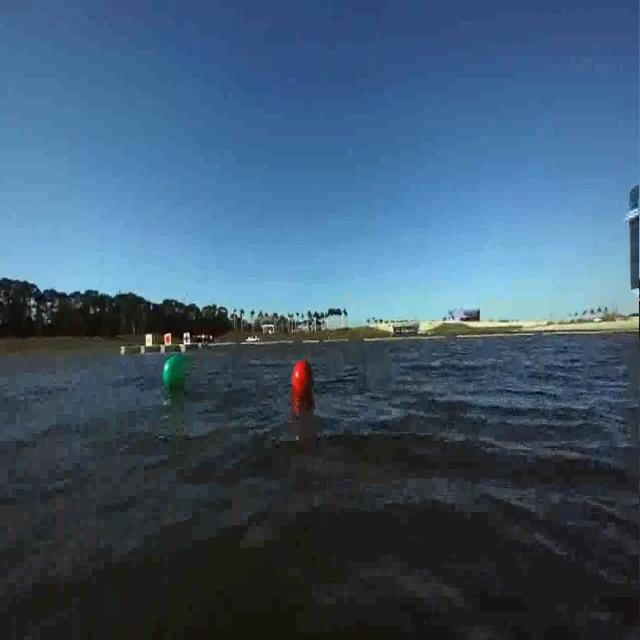green-buoy: (161, 355, 188, 397)
red-buoy: (287, 362, 320, 403)
